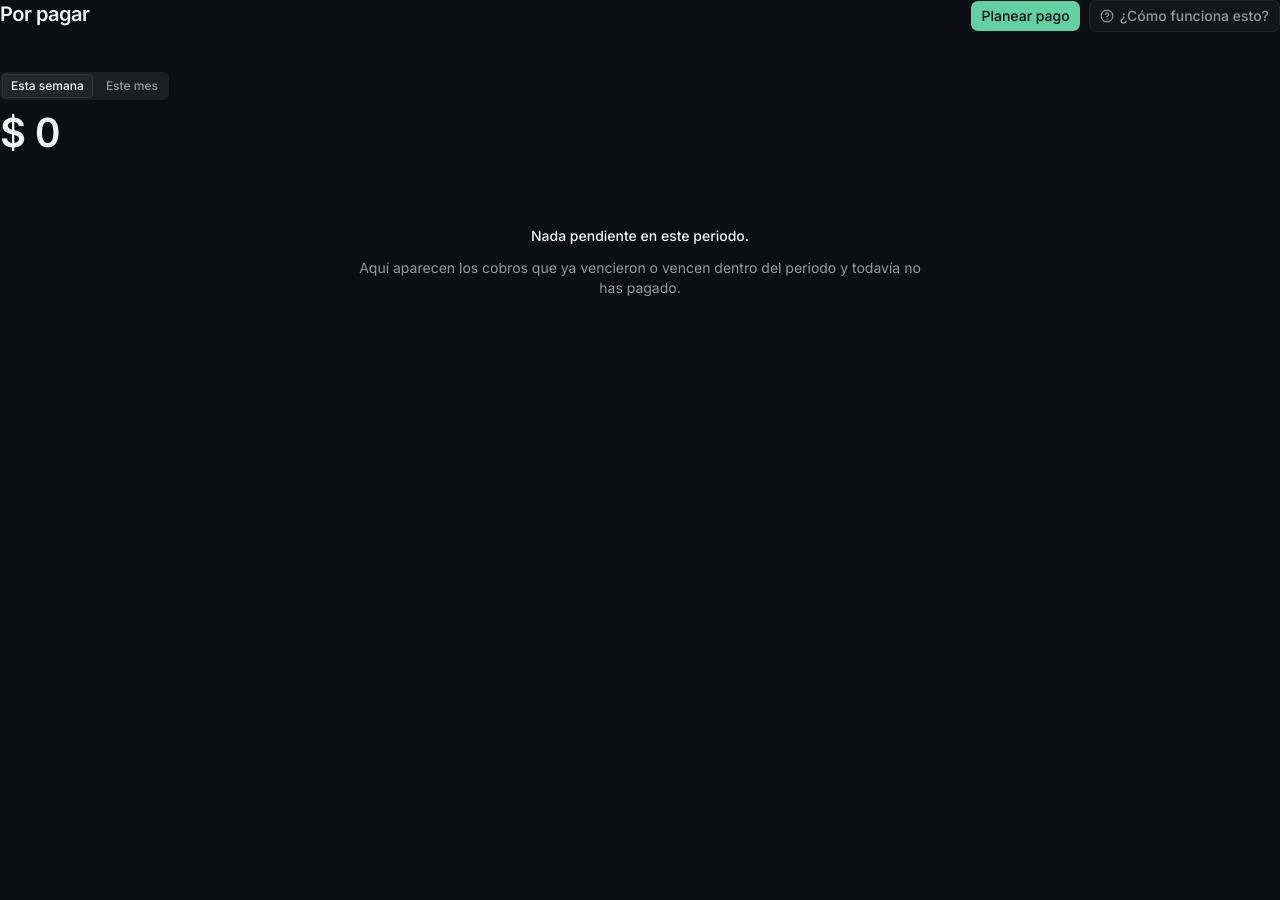
Test: AC-43 — a debt can be pointed at a meta when it is written down › The plan form offers the metas of the month the payment is due
Click the button "Planear pago". click: (1026, 16)
box: [970, 0, 1081, 32]
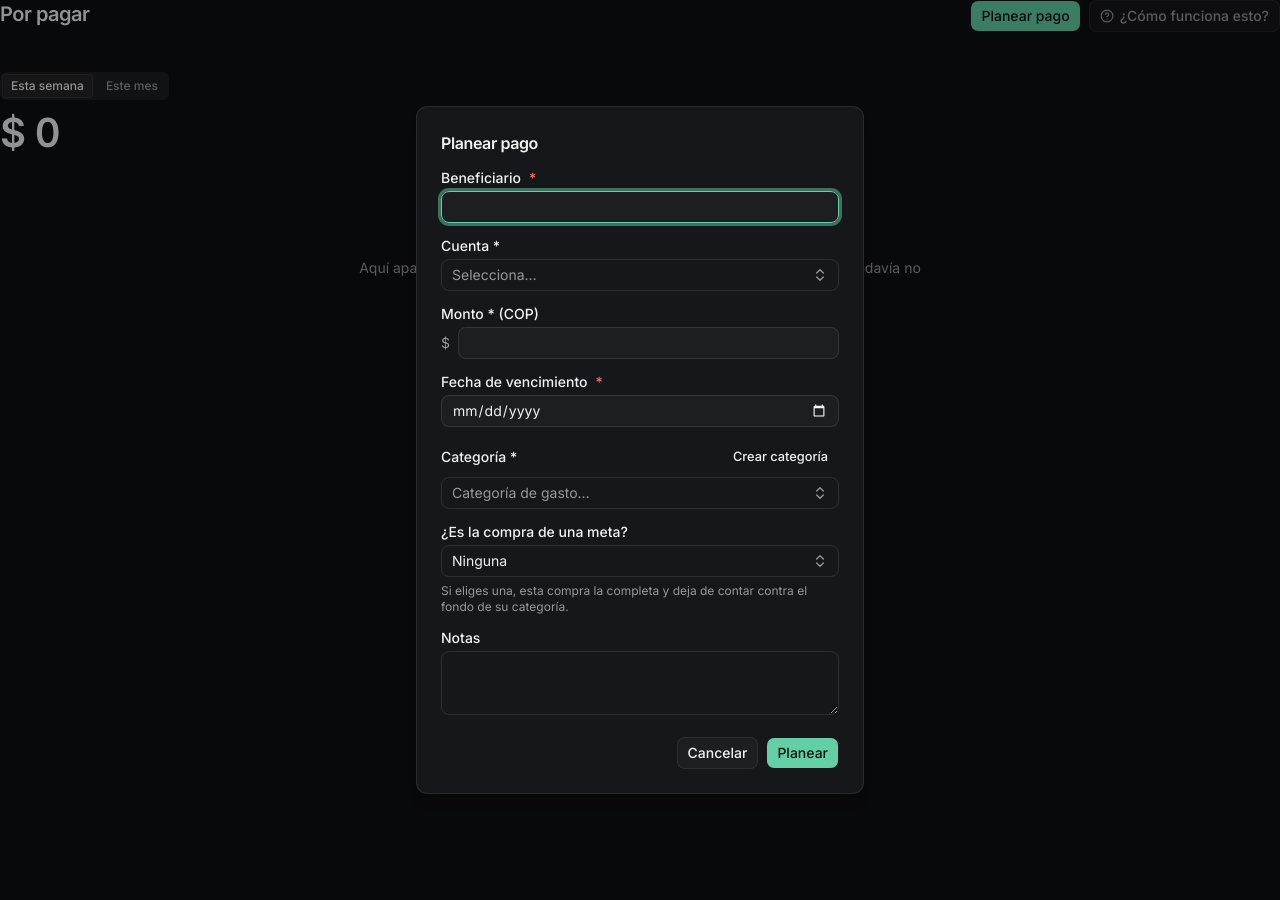
Result: the dropdown named "¿Es la compra de una meta?" is shown at [441, 545, 839, 577]
